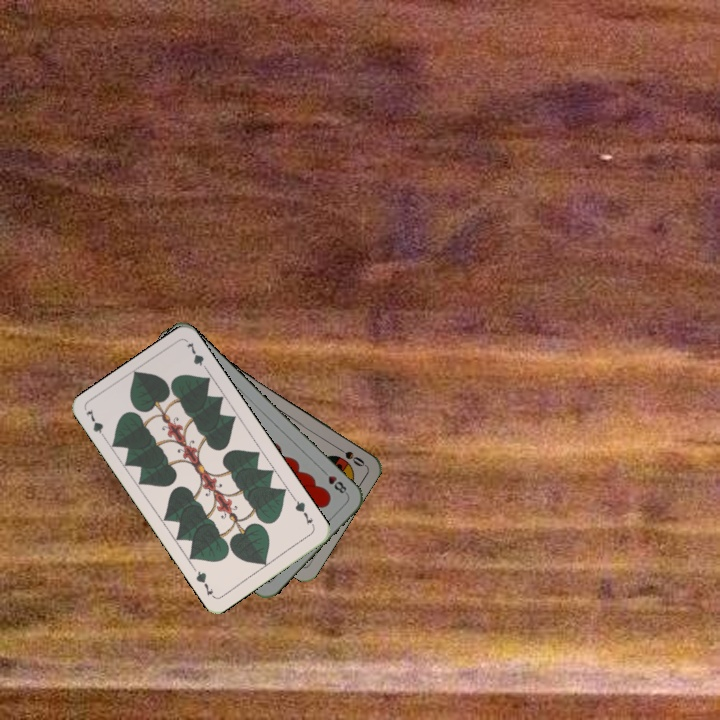G7: (82, 405, 110, 444), (289, 494, 315, 527)
H8: (318, 465, 350, 497)
SO: (331, 441, 367, 469)
